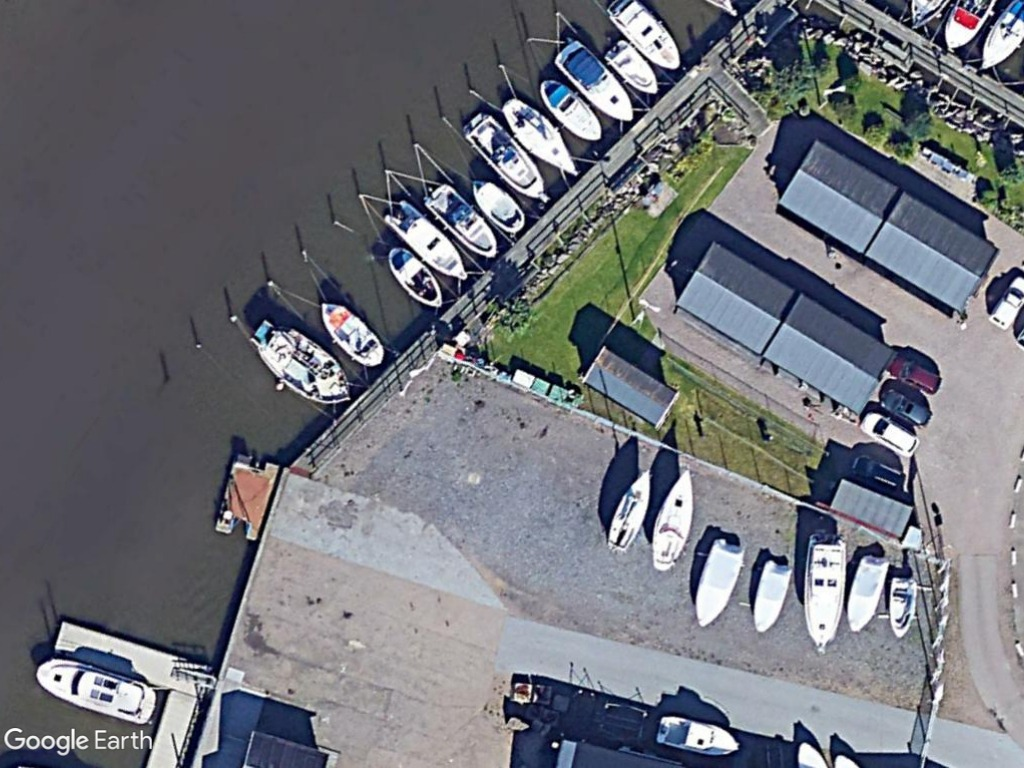boat: (28, 654, 161, 728), (247, 321, 355, 408), (461, 105, 553, 207), (547, 32, 639, 128), (379, 190, 470, 284), (497, 90, 586, 182), (420, 178, 499, 261), (801, 528, 850, 661), (600, 0, 682, 74), (687, 532, 747, 629), (645, 464, 695, 576), (601, 463, 658, 557), (316, 297, 388, 370), (535, 72, 605, 146), (652, 710, 743, 760), (461, 168, 525, 234), (384, 244, 445, 311), (842, 550, 890, 635), (747, 554, 797, 635), (601, 32, 660, 100), (883, 571, 921, 640)
car: (855, 406, 924, 462), (883, 351, 944, 396), (875, 382, 934, 427)
